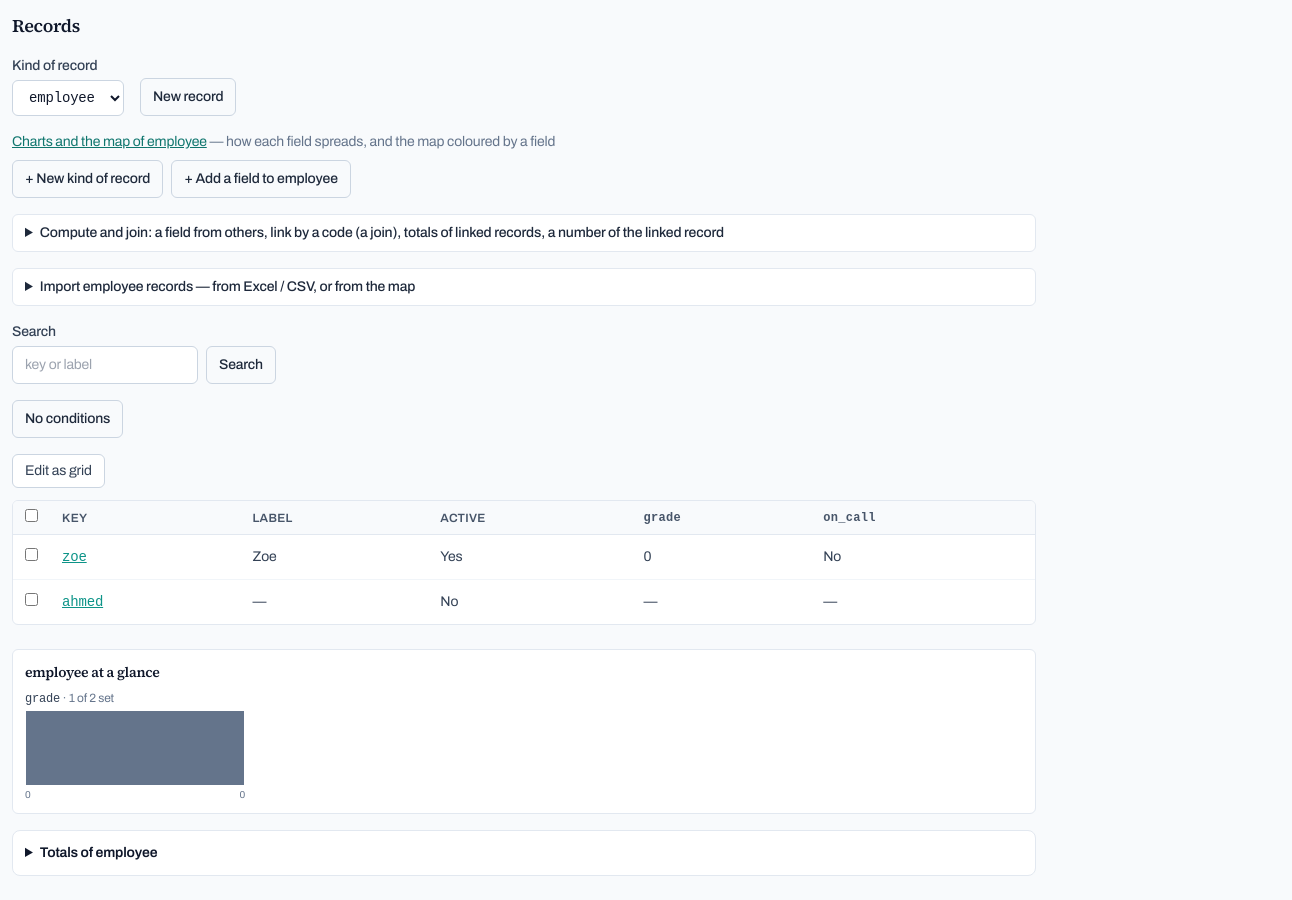
Test: Entities: the list › switches the page of records to an editable grid and back
Click the button "Edit as grid" at (58, 471), box x1=12 y1=454 x2=105 y2=488
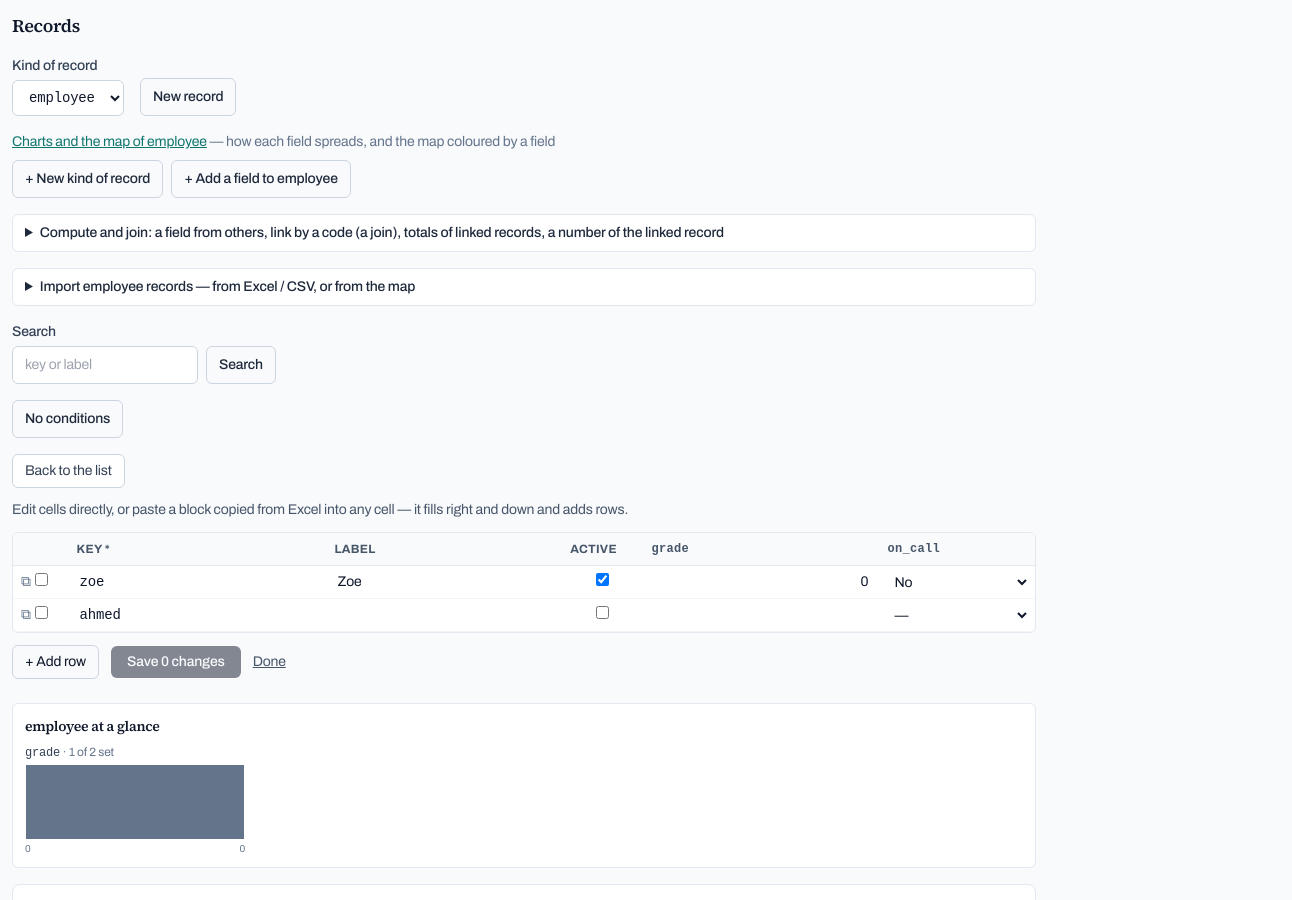
Expected: the element with test id "record-grid" is shown, x1=12 y1=500 x2=1036 y2=679
Expected: the field named "zoe: key" holds "zoe", x1=72 y1=567 x2=322 y2=597
Click the button "Back to the list" at (68, 471), box x1=12 y1=454 x2=125 y2=488
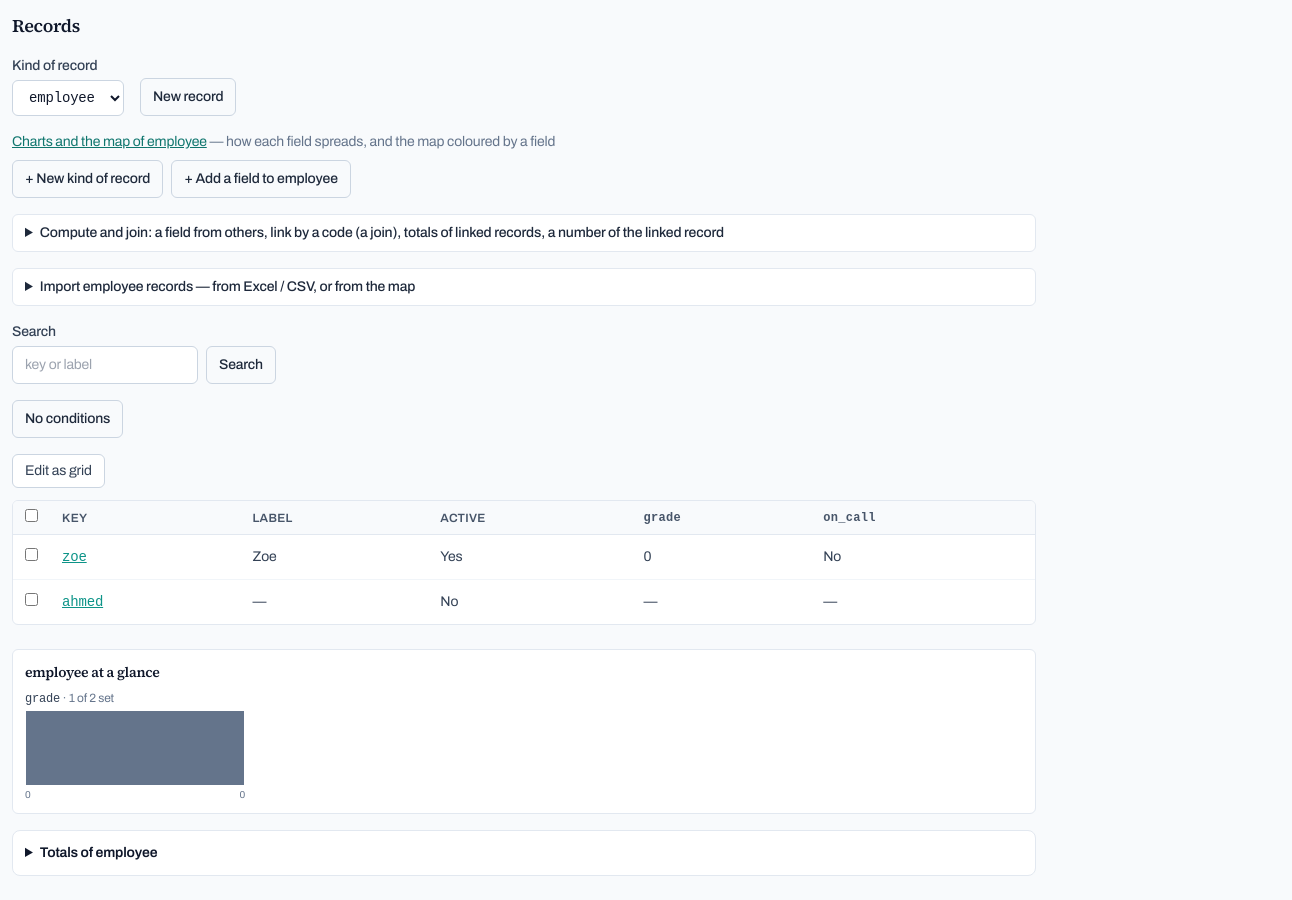
Expected: the element with test id "record-grid" is gone
